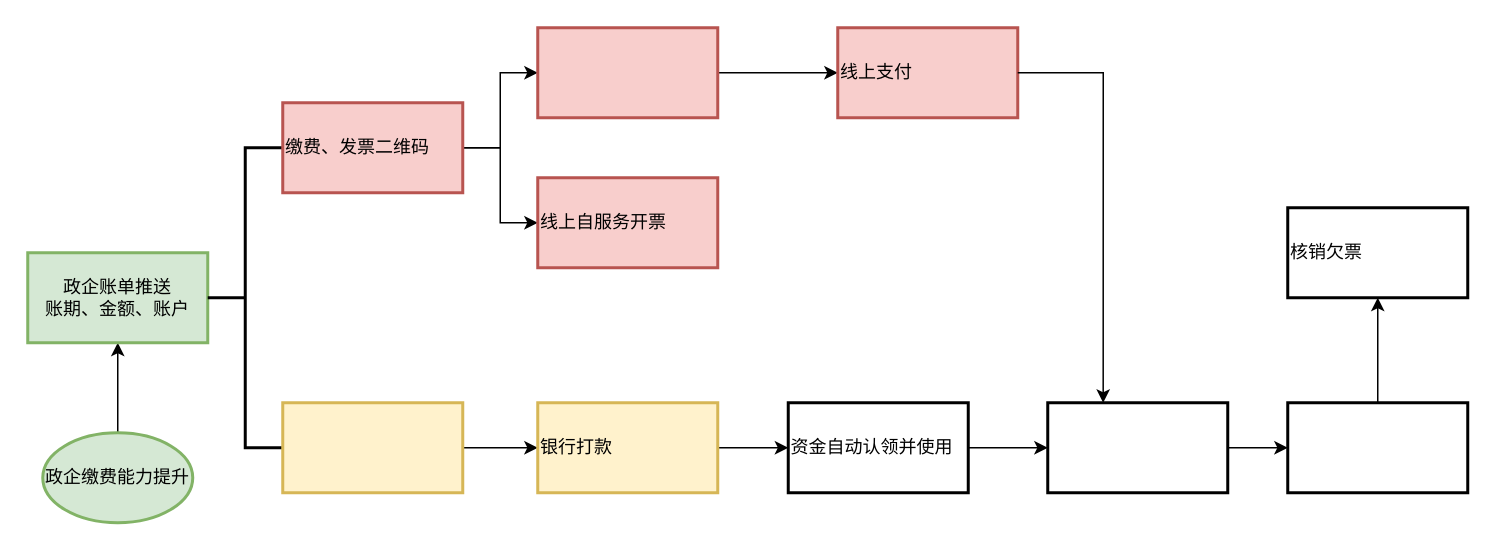
Image size: 1494x549. Some labels were removed from this diagram. Here are the shapes that lost their labels. From the top down, the centre of each, then its label:
At pixel 627 72: "线上自服务缴费".
At pixel 372 447: "对公打款信息".
At pixel 1137 447: "系统自动缴费".
At pixel 1377 447: "系统自动销账 按账期、按欠票".
